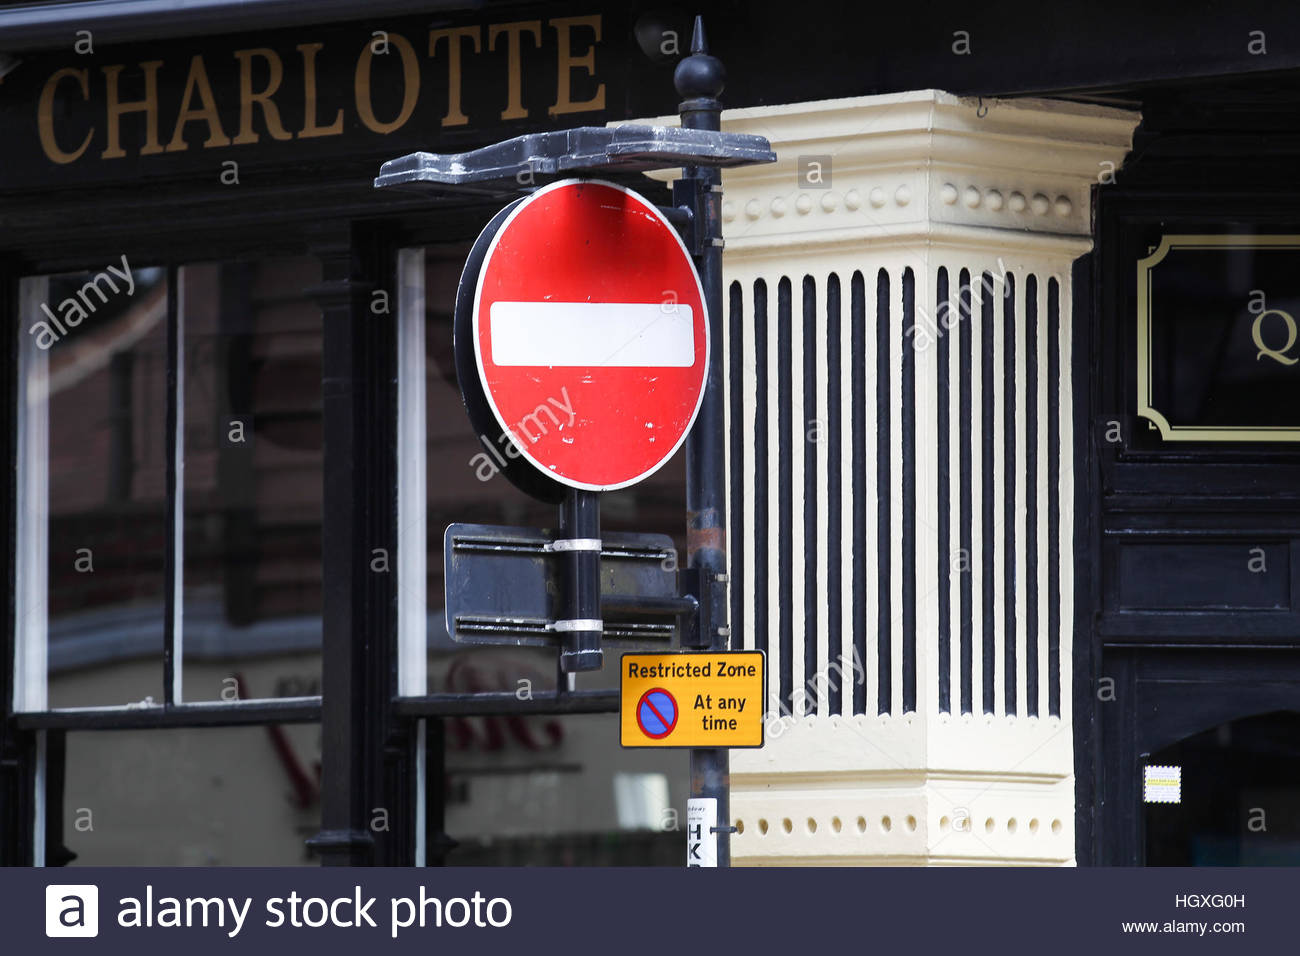No_entry: (475, 176, 711, 490)
